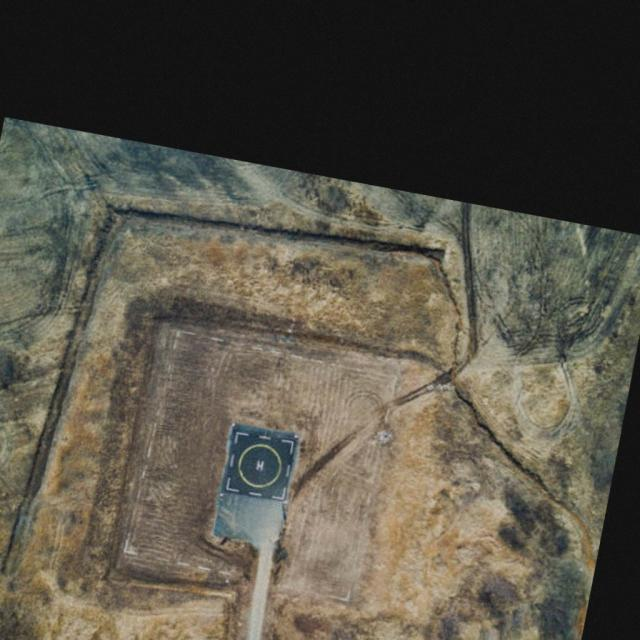helipad: (236, 442, 282, 487)
